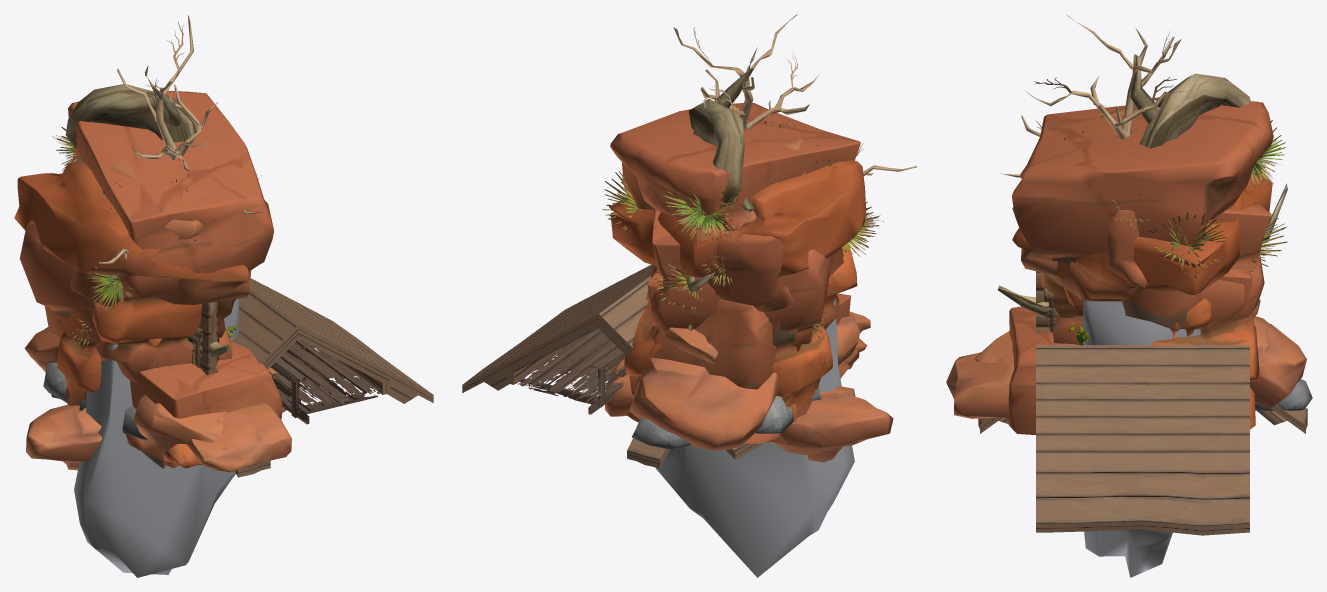
The model's file is scenery.glb.
3 views of the same model, side by side, from view 1: azimuth 30°, elevation 25°; view 2: azimuth 150°, elevation 25°; view 3: azimuth 270°, elevation 25° (orthographic). The views are drawn at different scales.
Visible parts, largest first — view 1: DES_LargeRock_05, S_Rock_Wall_Accents_01, DES_LargeRock_02, S_Prop_DesertRock_01, FORT_LogCabin_Roof2, DES_LargeRock_01, S_Boardwalk_BalconyS, DES_Tree_06, DES_RockShelf_01, DES_LargeRock_03, ARI_Dead_Tree_01, SM_Props_RockPile05 (+4 smaller); view 2: DES_LargeRock_05, S_Rock_Wall_Accents_01, DES_LargeRock_02, S_Prop_DesertRock_04, DES_LargeRock_01, DES_LargeRock_03, FORT_LogCabin_Roof2, S_Prop_DesertRock_01, DES_RockShelf_01, S_Boardwalk_BalconyS, DES_Tree_06, ARI_Dead_Tree_01 (+4 smaller); view 3: FORT_LogCabin_Roof2, DES_LargeRock_05, DES_LargeRock_01, DES_LargeRock_02, S_Prop_DesertRock_01, S_Rock_Wall_Accents_01, DES_Tree_06, S_Prop_DesertRock_04, ARI_Dead_Tree_01, ARI_Joshua_Tree_02, FORT_LogCabin_Roof2_Cap, DES_LargeRock_04 (+2 smaller).
Part boxes in pixels (left/top/right/bottom): DES_LargeRock_05: left=68, top=91, right=273, bottom=384; S_Rock_Wall_Accents_01: left=74, top=298, right=239, bottom=577; DES_LargeRock_02: left=14, top=161, right=251, bottom=435; S_Prop_DesertRock_01: left=45, top=306, right=291, bottom=472; FORT_LogCabin_Roof2: left=141, top=278, right=433, bottom=468; DES_LargeRock_01: left=19, top=220, right=226, bottom=451; S_Boardwalk_BalconyS: left=268, top=339, right=379, bottom=424; DES_Tree_06: left=65, top=84, right=229, bottom=356; DES_RockShelf_01: left=26, top=367, right=299, bottom=470; DES_LargeRock_03: left=57, top=173, right=101, bottom=405; ARI_Dead_Tree_01: left=99, top=15, right=262, bottom=263; SM_Props_RockPile05: left=43, top=362, right=148, bottom=439; DES_LargeRock_05: left=610, top=103, right=860, bottom=396; S_Rock_Wall_Accents_01: left=655, top=298, right=854, bottom=577; DES_LargeRock_02: left=609, top=160, right=866, bottom=277; S_Prop_DesertRock_04: left=629, top=327, right=779, bottom=450; DES_LargeRock_01: left=624, top=209, right=860, bottom=444; DES_LargeRock_03: left=707, top=210, right=832, bottom=417; FORT_LogCabin_Roof2: left=462, top=264, right=762, bottom=459; S_Prop_DesertRock_01: left=627, top=270, right=870, bottom=422; DES_RockShelf_01: left=605, top=356, right=893, bottom=462; S_Boardwalk_BalconyS: left=515, top=328, right=626, bottom=414; DES_Tree_06: left=686, top=67, right=754, bottom=292; ARI_Dead_Tree_01: left=673, top=14, right=916, bottom=176; FORT_LogCabin_Roof2: left=1036, top=345, right=1249, bottom=535; DES_LargeRock_05: left=1011, top=101, right=1273, bottom=345; DES_LargeRock_01: left=975, top=204, right=1271, bottom=381; DES_LargeRock_02: left=1012, top=171, right=1272, bottom=317; S_Prop_DesertRock_01: left=946, top=269, right=1256, bottom=434; S_Rock_Wall_Accents_01: left=1082, top=300, right=1200, bottom=577; DES_Tree_06: left=998, top=54, right=1287, bottom=315; S_Prop_DesertRock_04: left=1250, top=299, right=1306, bottom=409; ARI_Dead_Tree_01: left=1001, top=14, right=1194, bottom=177; ARI_Joshua_Tree_02: left=1054, top=105, right=1285, bottom=278; FORT_LogCabin_Roof2_Cap: left=978, top=405, right=1307, bottom=433; DES_LargeRock_04: left=1100, top=107, right=1211, bottom=336.
Size of the model in its own units: 2.08 by 2.92 by 1.71.
27 materials, 26 textured.
